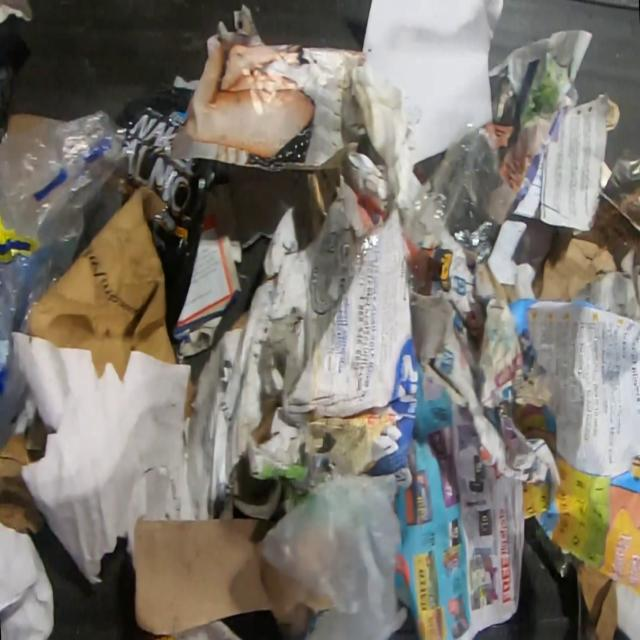cardboard: (510, 299, 640, 601), (29, 180, 178, 381), (133, 518, 332, 640), (173, 161, 243, 364), (523, 222, 627, 306), (0, 406, 58, 538), (569, 551, 620, 640), (305, 168, 339, 242), (0, 113, 56, 132), (182, 375, 196, 423)
soft_plastic: (0, 110, 127, 457), (110, 95, 219, 343), (258, 470, 402, 639), (410, 123, 521, 266), (346, 222, 386, 287), (404, 234, 425, 290)
